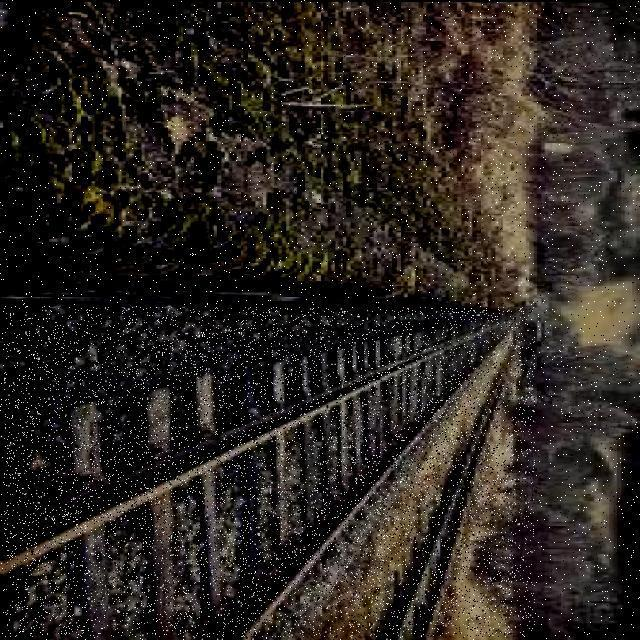rail: (4, 307, 535, 637)
